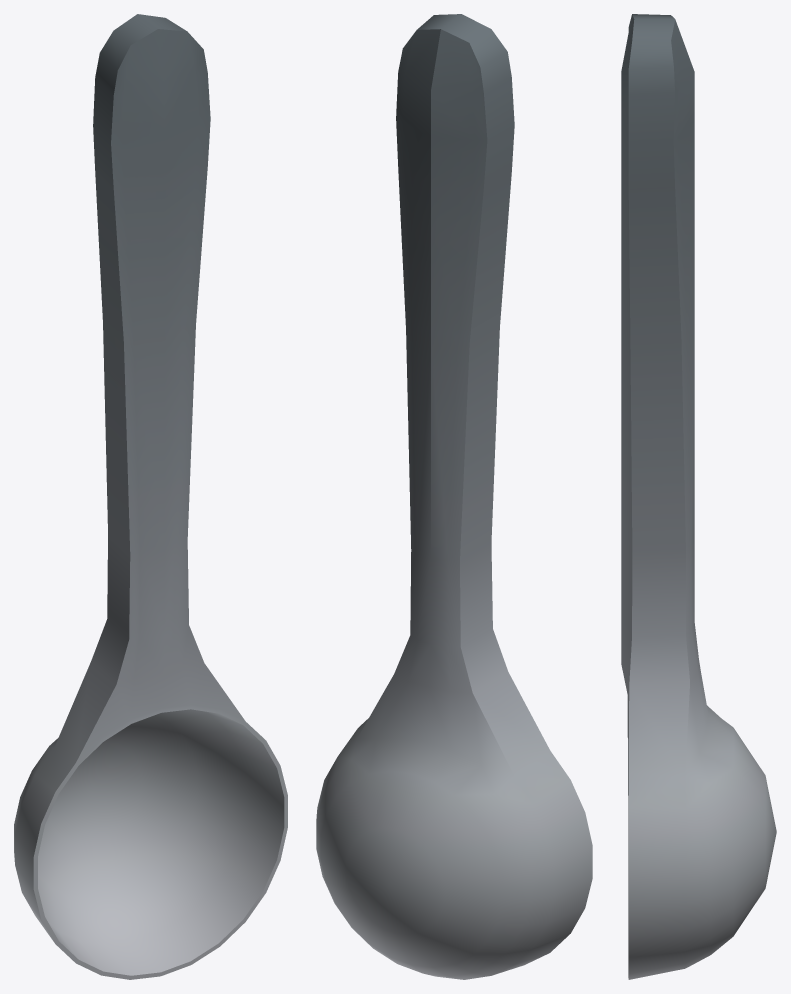
Rendered from Soup_ladle .fbx.
3 renders of one model, left to right at view 1: azimuth 30°, elevation 25°; view 2: azimuth 150°, elevation 25°; view 3: azimuth 270°, elevation 25°, orthographic.
Visible parts, largest first — view 1: Soup_ladle; view 2: Soup_ladle; view 3: Soup_ladle.
Boxes of the visible parts, <box> form: Soup_ladle: <box>14,14,287,979</box>; Soup_ladle: <box>316,14,592,979</box>; Soup_ladle: <box>621,14,776,979</box>.
Bounding box in the file's own units: 33.85 × 17.91 × 120.
